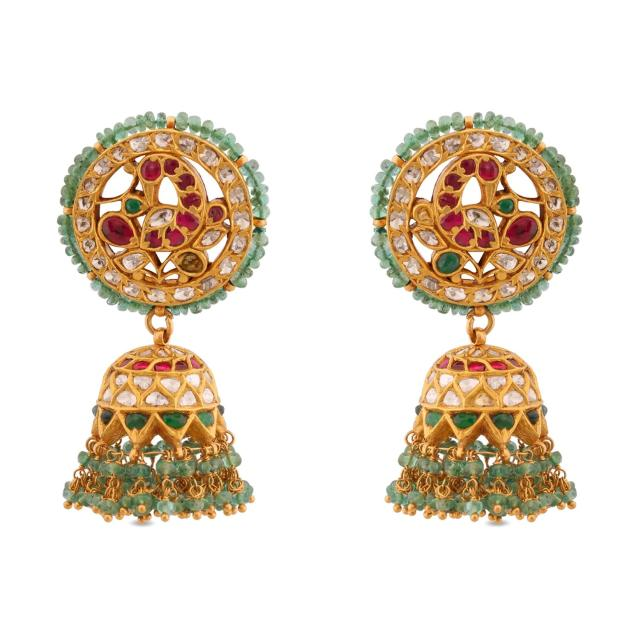missing gem: (182, 254, 202, 273), (472, 393, 492, 406), (417, 207, 430, 221)
